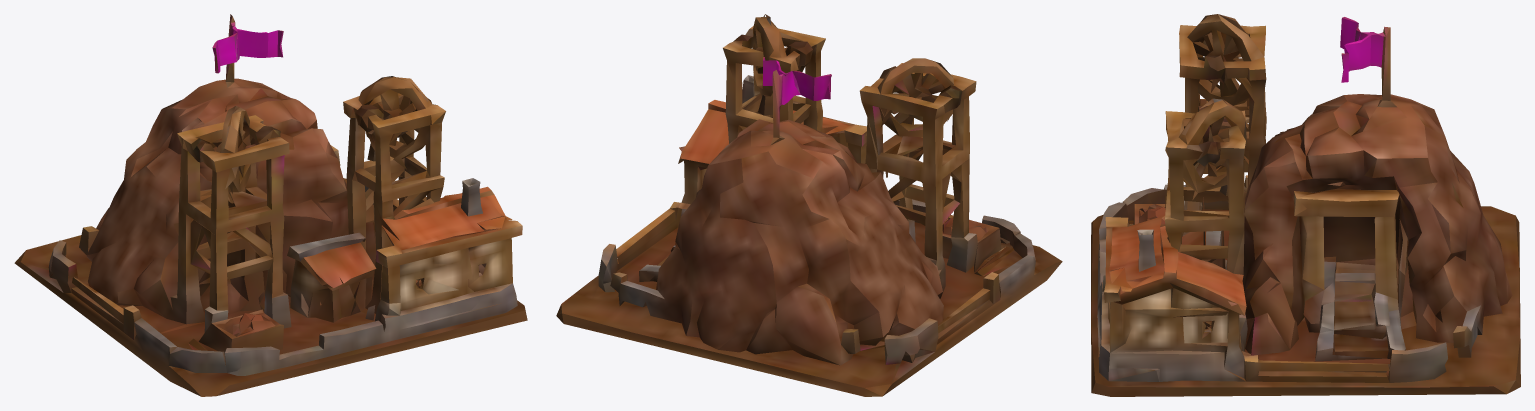
Rendered from clay_mine2.lod2.glb.
3 views of the same model, side by side, from view 1: azimuth 30°, elevation 25°; view 2: azimuth 150°, elevation 25°; view 3: azimuth 270°, elevation 25° (orthographic). The views are drawn at different scales.
Parts seen in each view (by area): view 1: clay_mine2.lod2_uv; view 2: clay_mine2.lod2_uv; view 3: clay_mine2.lod2_uv.
Boxes of the visible parts, left/top/right/bottom form: clay_mine2.lod2_uv: left=14, top=14, right=527, bottom=396; clay_mine2.lod2_uv: left=556, top=14, right=1062, bottom=396; clay_mine2.lod2_uv: left=1091, top=14, right=1520, bottom=396.
Size of the model in its own units: 1.91 by 1.34 by 1.89.
Materials: 1 (1 with a texture image).
